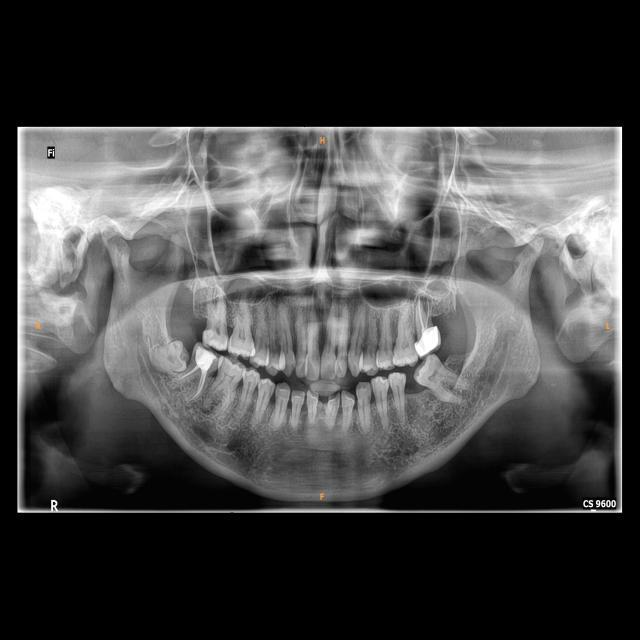dentin-curugu: (204, 317, 216, 332)
dolgu: (195, 346, 218, 372)
kanal-tedavisi: (183, 365, 211, 401), (416, 296, 429, 327)
kaplama: (416, 325, 443, 356)
